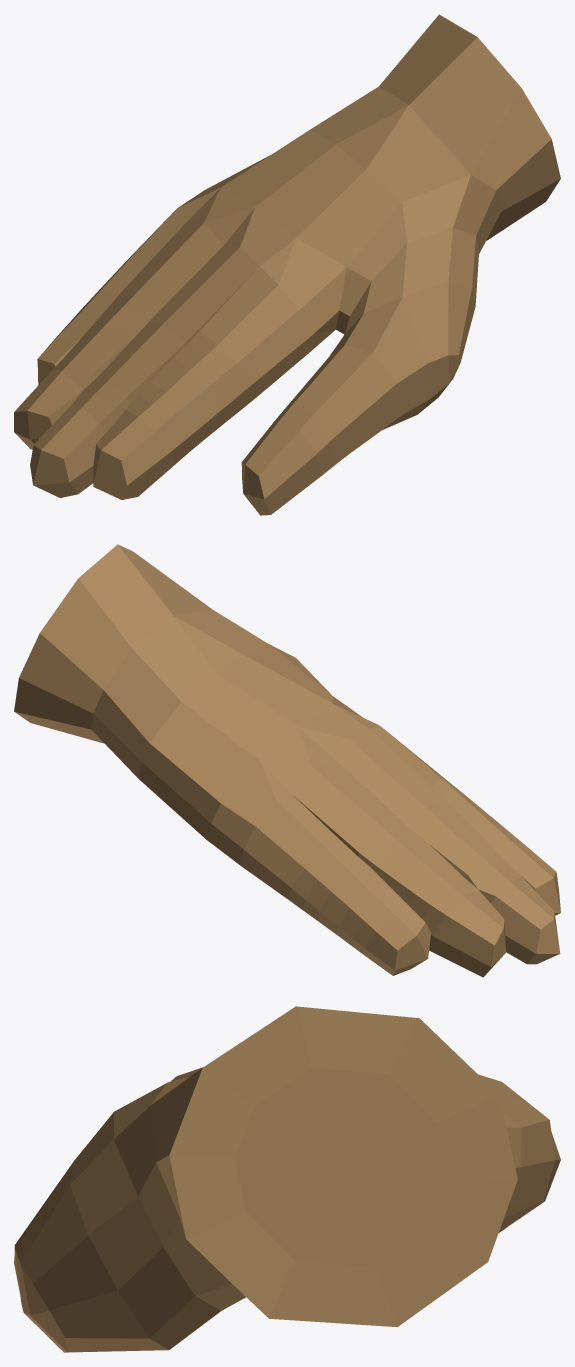
File: Glove_R.fbx
The picture shows the model from 3 angles, top to bottom: view 1: azimuth 30°, elevation 25°; view 2: azimuth 150°, elevation 25°; view 3: azimuth 270°, elevation 25°; orthographic projection. The views are drawn at different scales.
Parts seen in each view (by area): view 1: Glove_R; view 2: Glove_R; view 3: Glove_R.
Boxes of the visible parts, <box> form: Glove_R: <box>14,14,560,515</box>; Glove_R: <box>14,544,560,977</box>; Glove_R: <box>14,1006,560,1352</box>.
Size of the model in its own units: 18.14 by 11.78 by 10.78.
Materials: 1 (1 with a texture image).
